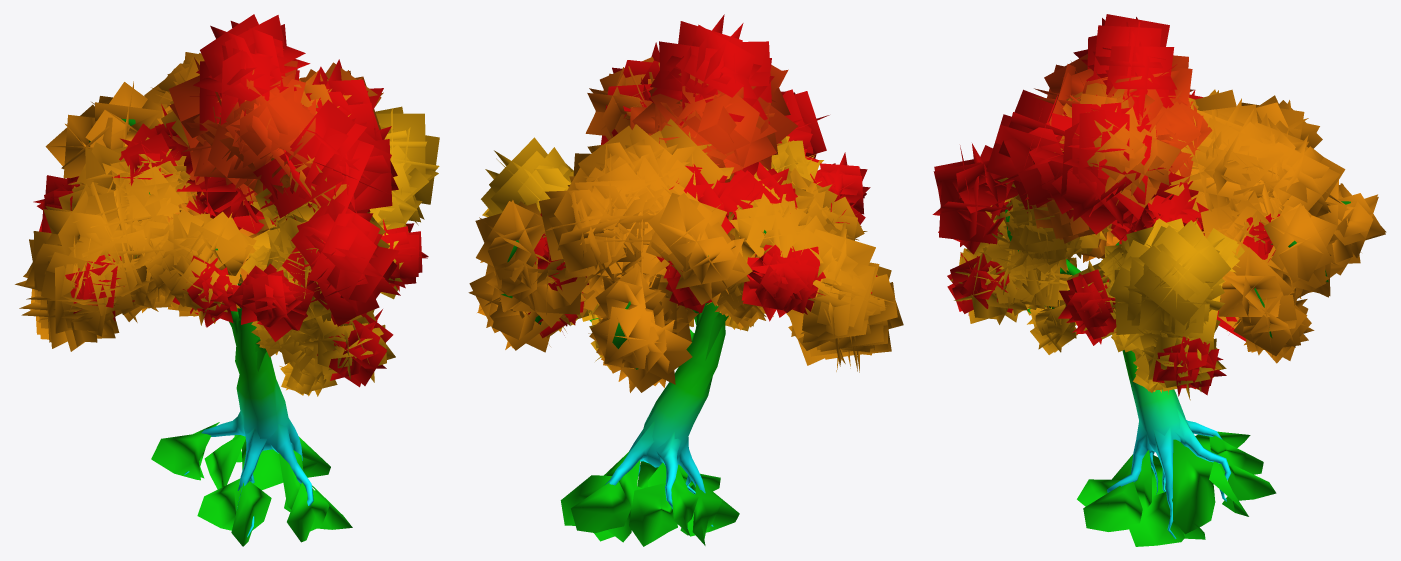
Rendered from BigTree2.fbx.
3 views of the same model, side by side, from view 1: azimuth 30°, elevation 25°; view 2: azimuth 150°, elevation 25°; view 3: azimuth 270°, elevation 25° (orthographic). The views are drawn at different scales.
Visible parts, largest first — view 1: BigTree2_LOD0; view 2: BigTree2_LOD0; view 3: BigTree2_LOD0.
Part boxes in pixels (box(x1,y1,x2,y2)): BigTree2_LOD0: box(15, 14, 439, 546); BigTree2_LOD0: box(468, 14, 903, 546); BigTree2_LOD0: box(932, 14, 1386, 546).
Size of what is drawn, in the model's own units: 2147 by 2599 by 2164.
